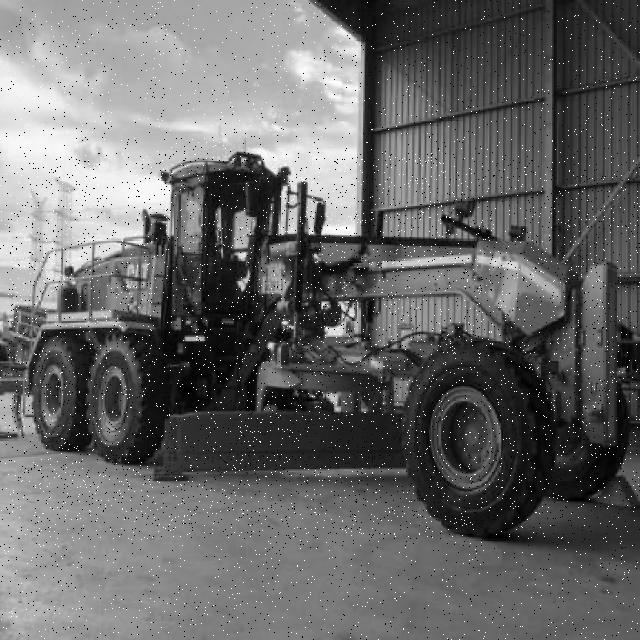Construction Equipment: (8, 153, 640, 539)
